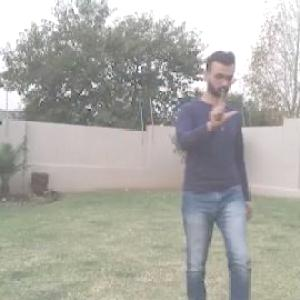land_hand: (202, 83, 242, 131)
